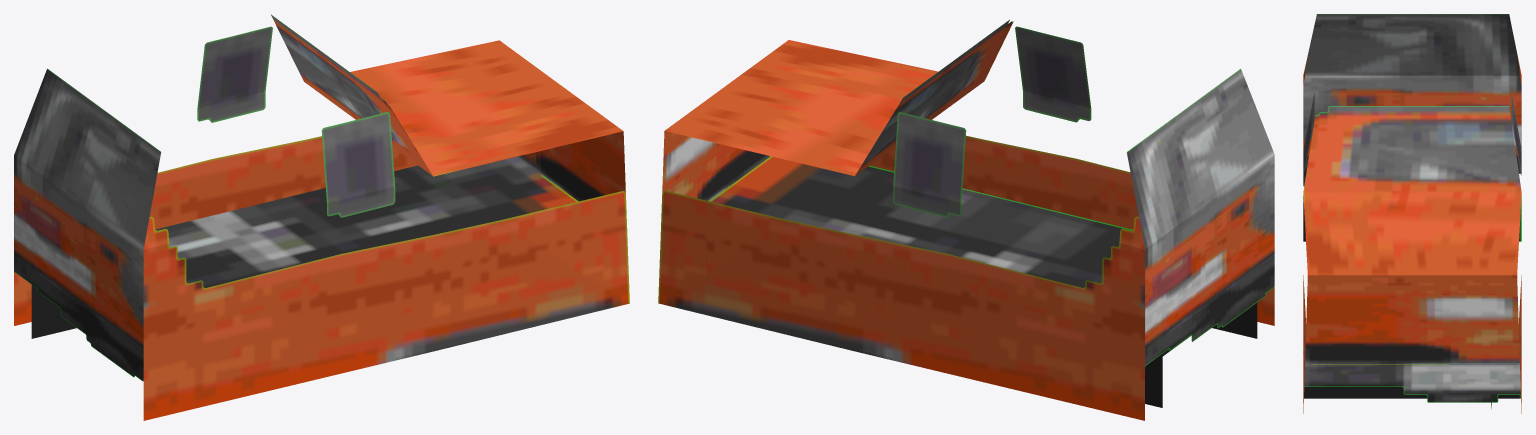
The model's file is _jeep.obj.
The picture shows the model from 3 angles, left to right: view 1: azimuth 30°, elevation 25°; view 2: azimuth 150°, elevation 25°; view 3: azimuth 270°, elevation 25°; orthographic projection. The views are drawn at different scales.
Bounding box in the file's own units: 416 × 211 × 192.
1 material, 1 textured.
